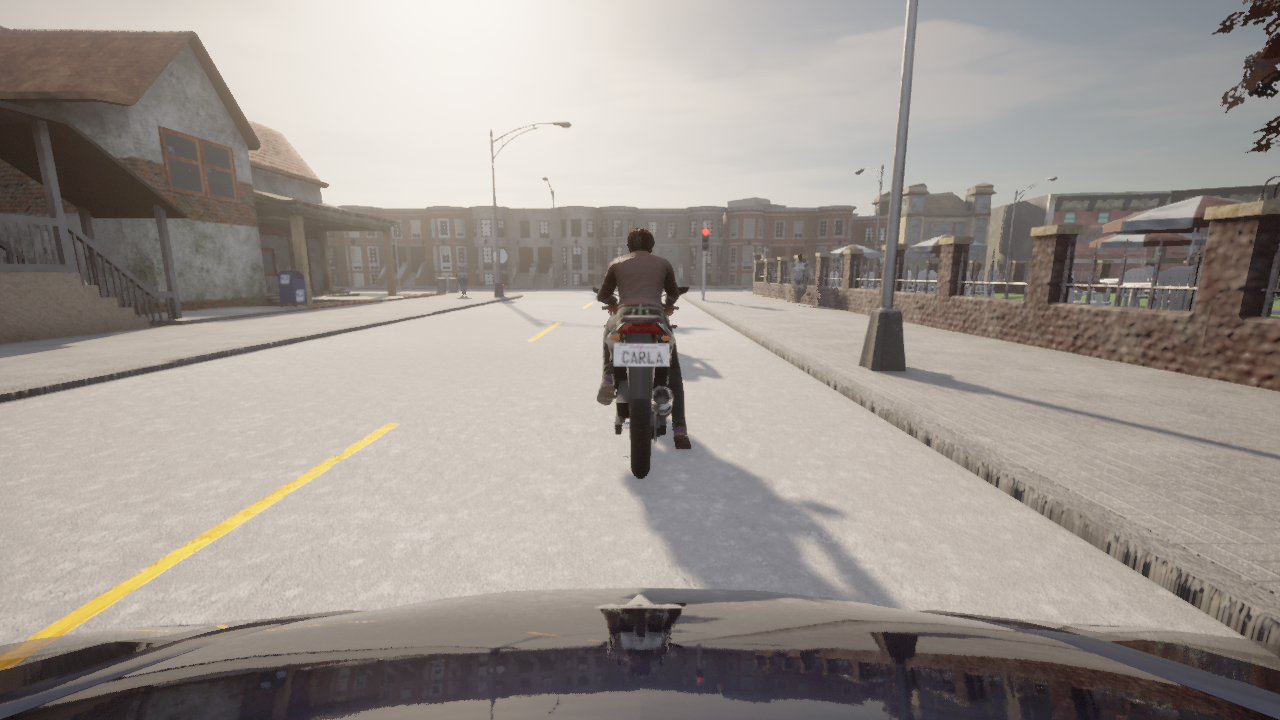cyclist: (0, 588, 1279, 719), (592, 286, 688, 478)
pedestrian: (788, 253, 808, 305), (456, 257, 470, 296)
